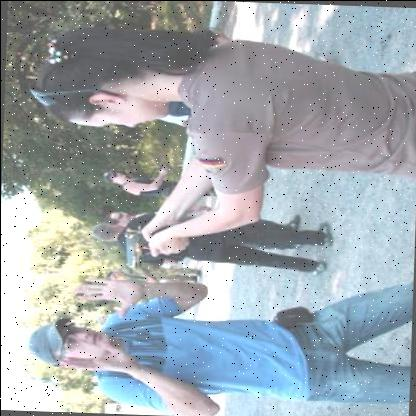rifle: (117, 223, 169, 271)
